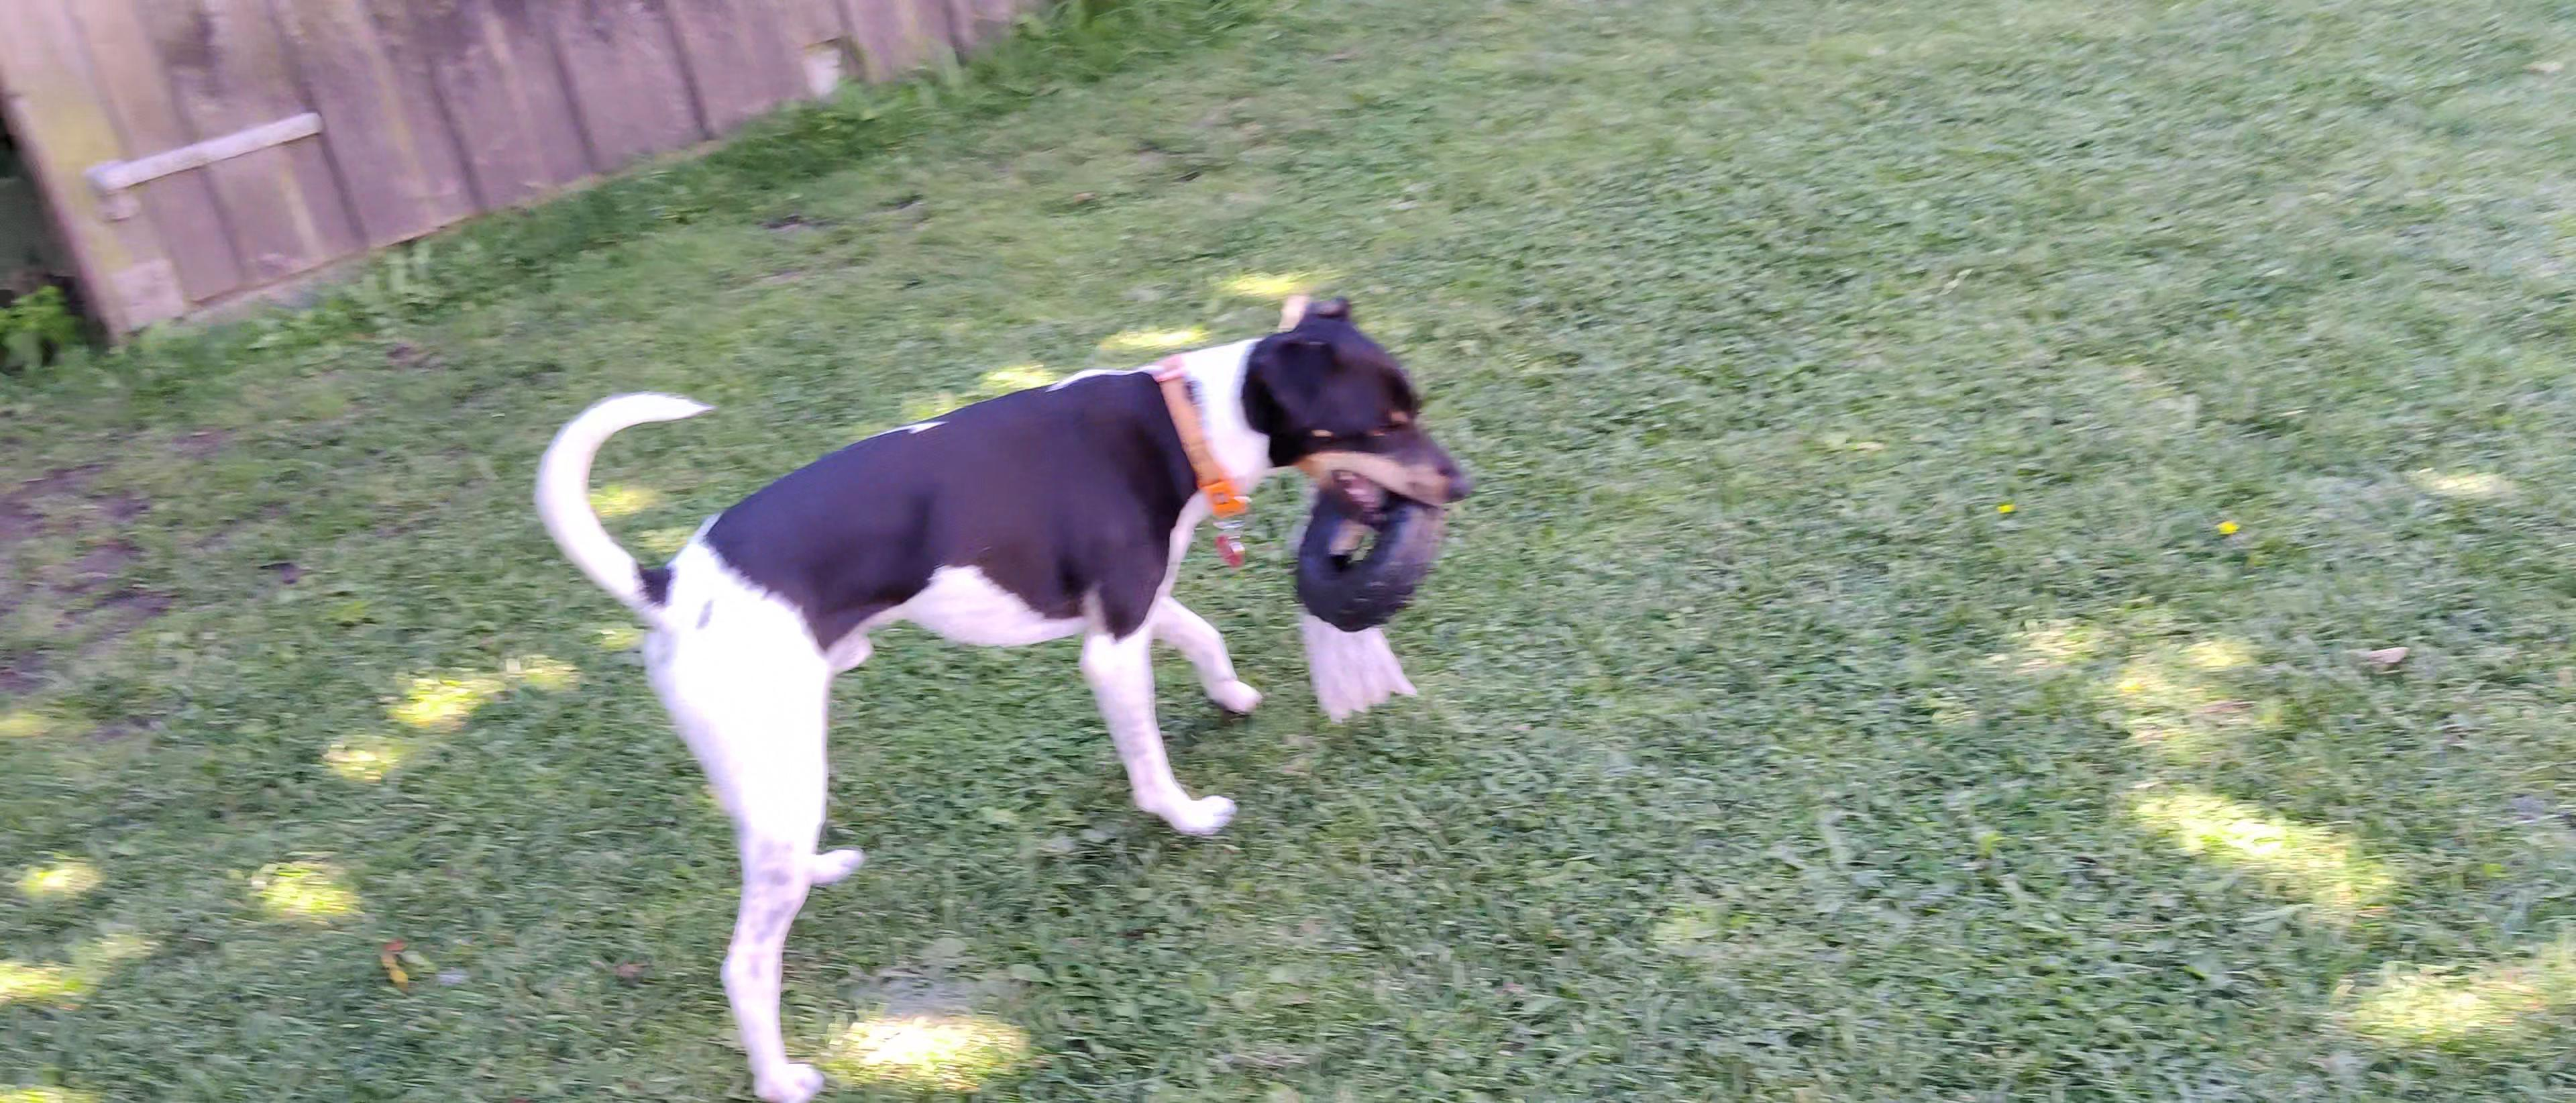Dog: (529, 281, 1482, 1103)
